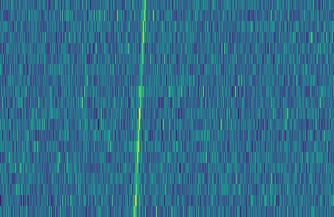signal: (129, 0, 148, 217)
